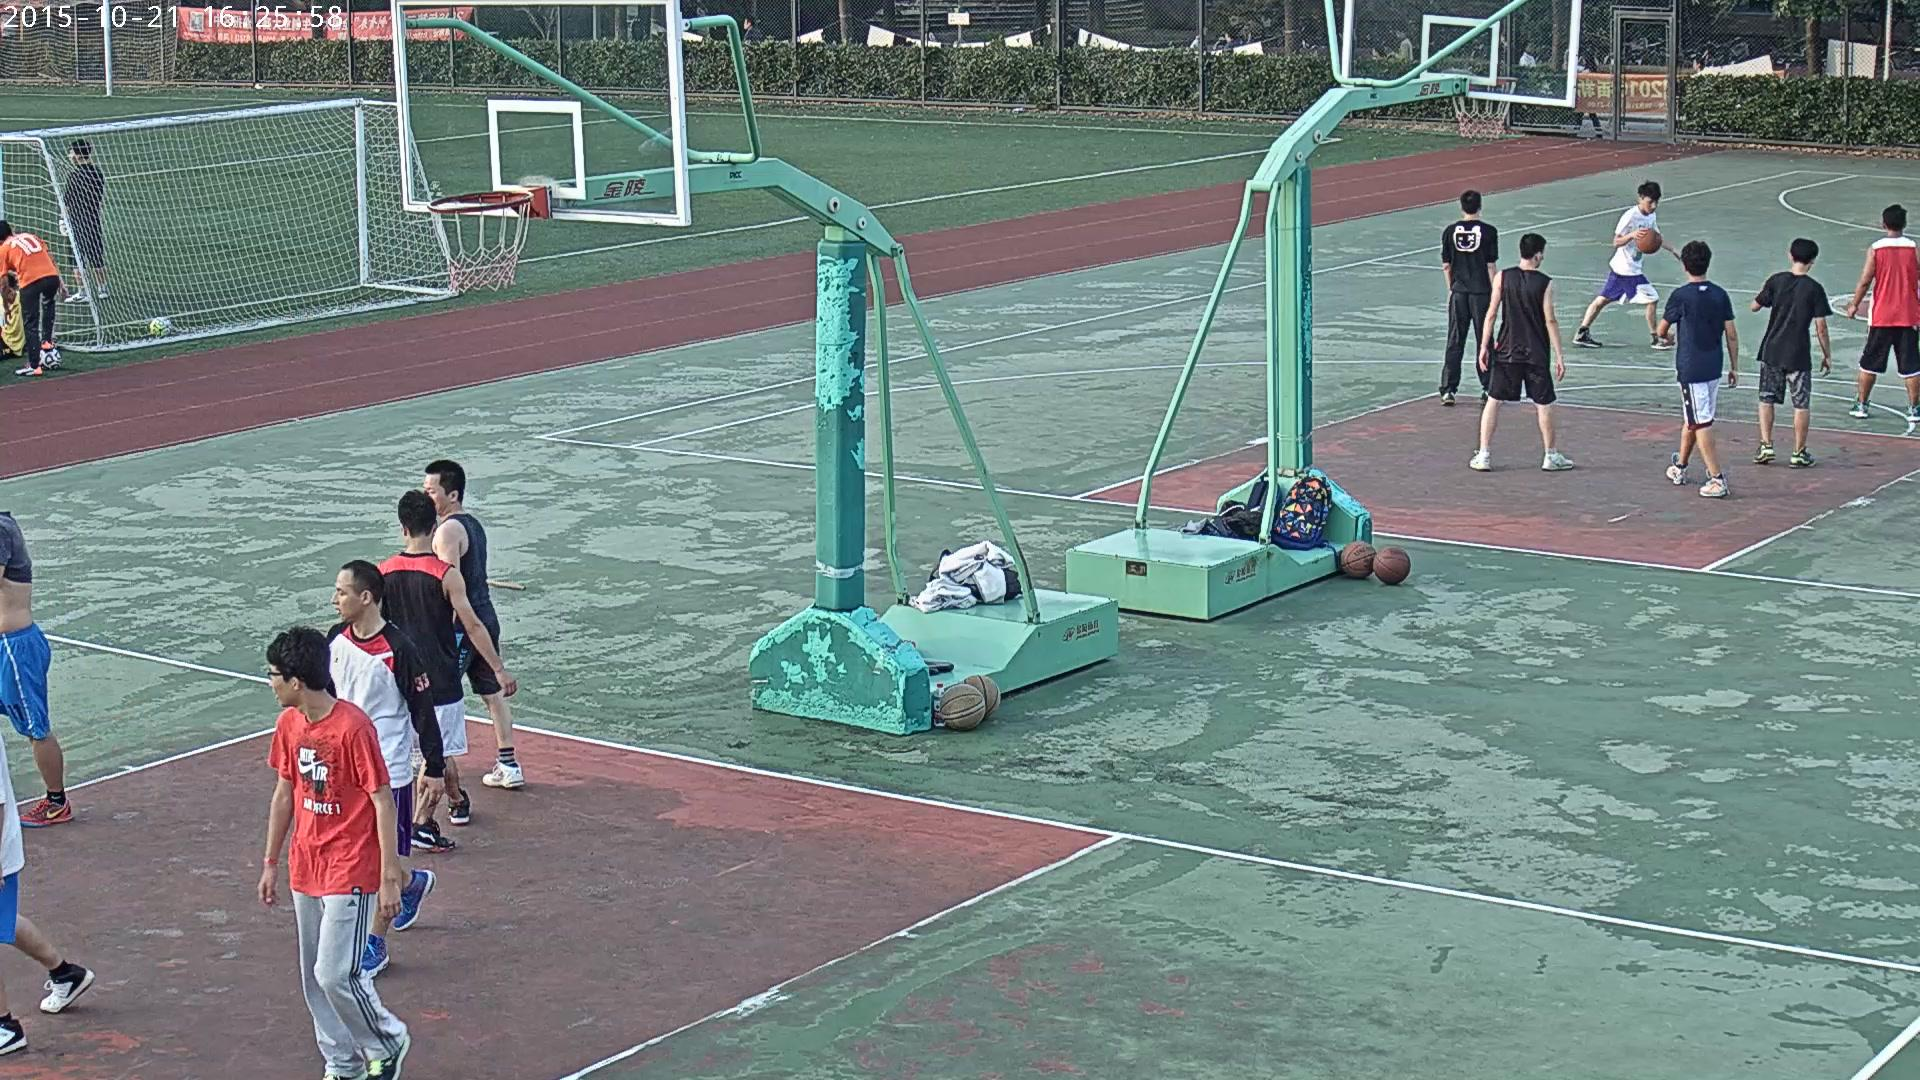face: (334, 566, 360, 619), (267, 661, 291, 707), (425, 475, 444, 513), (1641, 196, 1658, 214), (69, 149, 75, 164), (1539, 245, 1544, 262), (1371, 47, 1379, 58), (1396, 29, 1402, 39), (1692, 59, 1697, 68), (1202, 26, 1208, 36), (743, 17, 748, 27), (1527, 43, 1532, 52)
